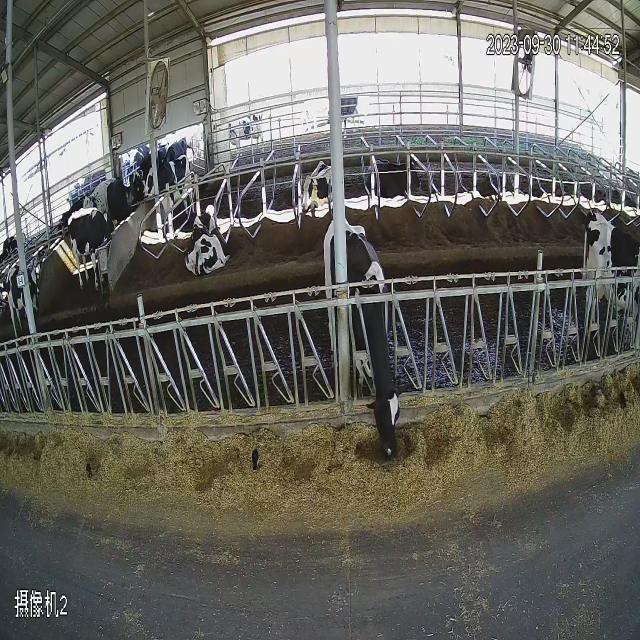drinking: (58, 194, 128, 311)
feeding: (309, 212, 439, 502)
lying down: (186, 164, 241, 303), (280, 131, 353, 227)
standing: (55, 98, 222, 207), (567, 202, 640, 378), (0, 216, 50, 336)
